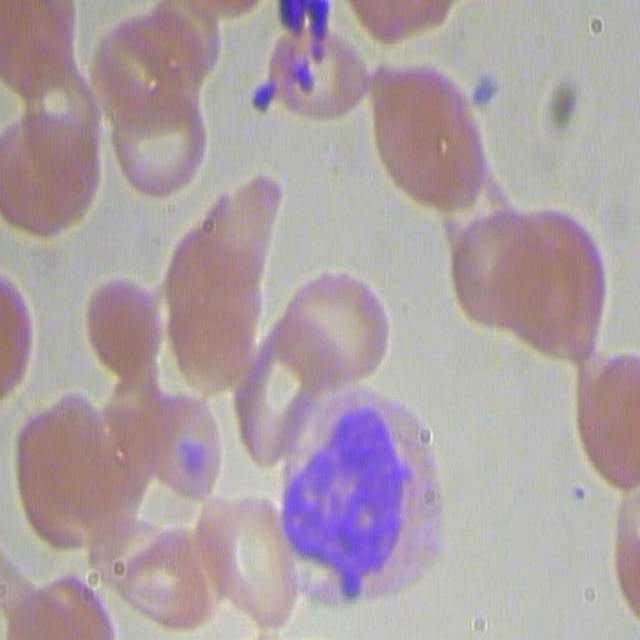RBC: (447, 196, 612, 370), (89, 0, 207, 206), (0, 34, 103, 239), (13, 412, 146, 562), (157, 208, 258, 402), (376, 61, 492, 216), (231, 322, 334, 475), (198, 496, 304, 634), (287, 269, 397, 393), (270, 6, 370, 128), (107, 531, 202, 640), (569, 347, 640, 487), (130, 404, 224, 495), (1, 568, 94, 638), (80, 291, 158, 370), (338, 0, 468, 41), (0, 261, 34, 408)
WBC: (291, 407, 455, 598)
platelets: (468, 68, 501, 125), (250, 84, 280, 123)
